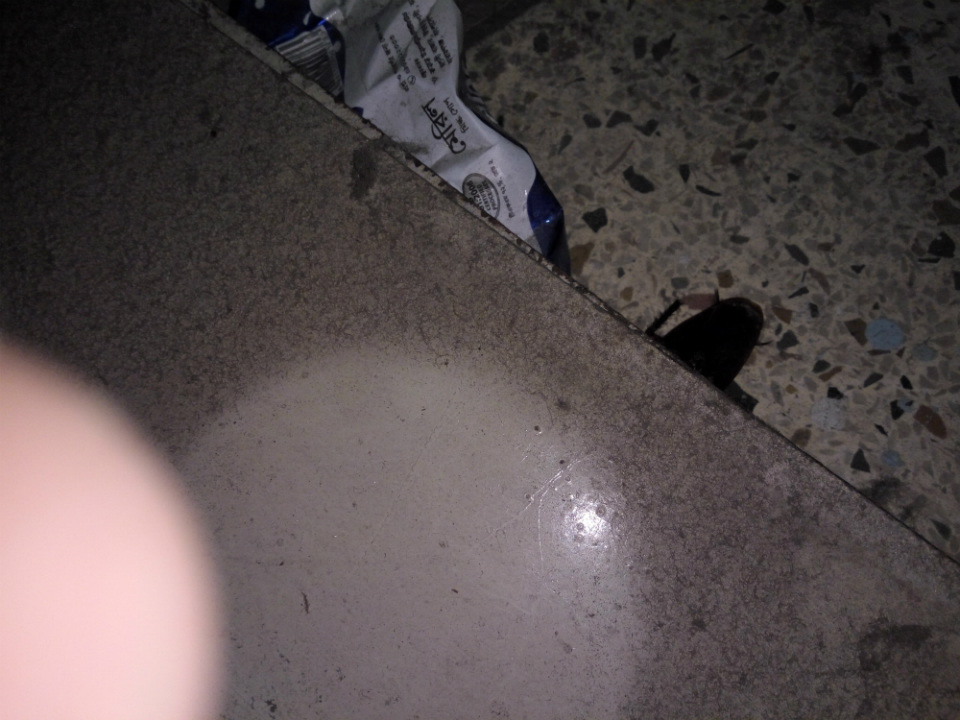cockroach: (626, 241, 817, 408)
